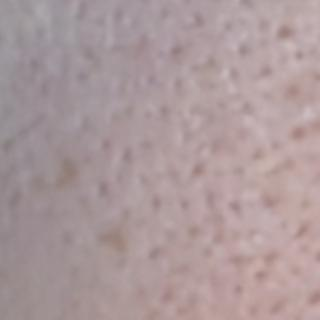Pores: (100, 229, 126, 250), (58, 162, 79, 187), (294, 93, 315, 114), (259, 196, 284, 212), (29, 175, 47, 196), (299, 22, 317, 40), (269, 297, 288, 314), (227, 256, 250, 270), (69, 0, 85, 20), (139, 135, 155, 155), (275, 25, 294, 41), (76, 115, 91, 135), (157, 105, 173, 123), (75, 71, 90, 90), (190, 164, 206, 181), (160, 287, 177, 303), (289, 127, 308, 141), (79, 48, 97, 62), (256, 66, 272, 81), (257, 37, 272, 53), (213, 100, 229, 115), (163, 229, 178, 245), (172, 264, 192, 276), (60, 230, 75, 246), (235, 44, 252, 58), (144, 74, 158, 91), (142, 108, 156, 125), (284, 84, 302, 97), (258, 88, 273, 103), (192, 13, 206, 29), (149, 195, 163, 211), (247, 230, 263, 244), (99, 138, 113, 154), (138, 35, 152, 51), (179, 131, 195, 145), (165, 167, 178, 184), (158, 6, 171, 23), (167, 44, 182, 58), (295, 223, 309, 238), (299, 242, 313, 257), (8, 190, 22, 205), (149, 245, 165, 258), (245, 303, 261, 316), (238, 103, 252, 117), (97, 183, 110, 198), (262, 253, 277, 266), (254, 269, 267, 284), (279, 218, 291, 234), (256, 18, 270, 31), (203, 56, 217, 69), (306, 291, 319, 305), (236, 129, 249, 143), (77, 196, 90, 210), (249, 149, 264, 161), (137, 172, 149, 187), (189, 225, 204, 237), (113, 9, 125, 24), (232, 165, 248, 176), (205, 190, 216, 206), (237, 0, 254, 10), (118, 149, 131, 162), (212, 232, 225, 245), (201, 247, 213, 261), (299, 199, 313, 211), (118, 260, 132, 272), (229, 68, 240, 83), (171, 77, 182, 92), (188, 104, 203, 115), (221, 20, 233, 33), (229, 203, 241, 216), (266, 165, 279, 177), (276, 54, 289, 66), (186, 63, 200, 74), (270, 141, 284, 152), (119, 206, 131, 218), (233, 284, 243, 298), (282, 157, 294, 168), (125, 105, 136, 117), (114, 169, 124, 182), (307, 46, 317, 59), (294, 48, 303, 62), (212, 167, 223, 177), (127, 18, 138, 28), (178, 200, 190, 209), (291, 266, 300, 277), (136, 0, 151, 3), (211, 0, 224, 1)
